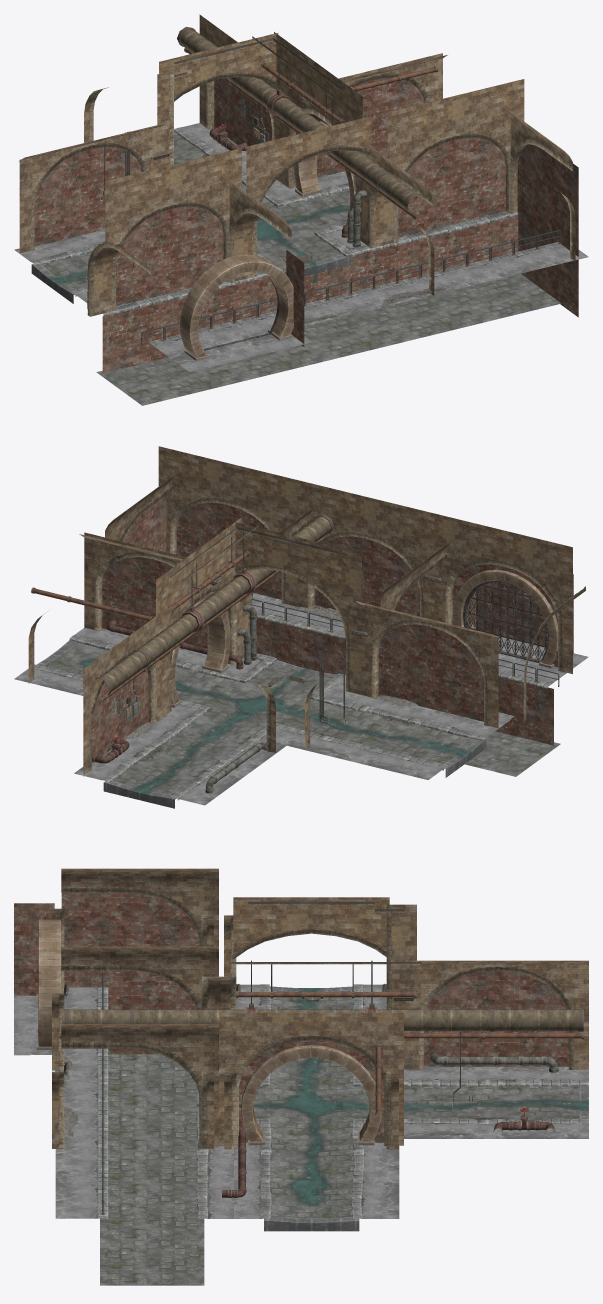
File: t3_road_t_junction_d.glb
3 views of the same model, one above another, from view 1: azimuth 30°, elevation 25°; view 2: azimuth 150°, elevation 25°; view 3: azimuth 270°, elevation 25° (orthographic). The views are drawn at different scales.
Parts seen in each view (by area): view 1: um_t3_road_t_junction_d_model_t3_road_t_junction_d_modelShap; view 2: um_t3_road_t_junction_d_model_t3_road_t_junction_d_modelShap; view 3: um_t3_road_t_junction_d_model_t3_road_t_junction_d_modelShap.
Boxes of the visible parts, bbox=[...] form: um_t3_road_t_junction_d_model_t3_road_t_junction_d_modelShap: bbox=[14, 14, 588, 405]; um_t3_road_t_junction_d_model_t3_road_t_junction_d_modelShap: bbox=[14, 446, 588, 808]; um_t3_road_t_junction_d_model_t3_road_t_junction_d_modelShap: bbox=[14, 868, 588, 1285].
Size of the model in its own units: 30.85 by 14.12 by 31.09.
10 materials, 10 textured.
